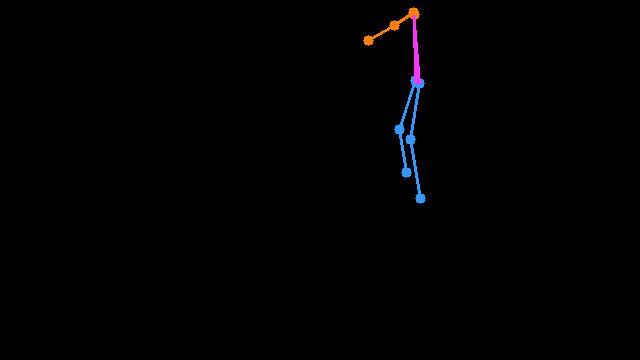normal: (352, 1, 452, 213)
